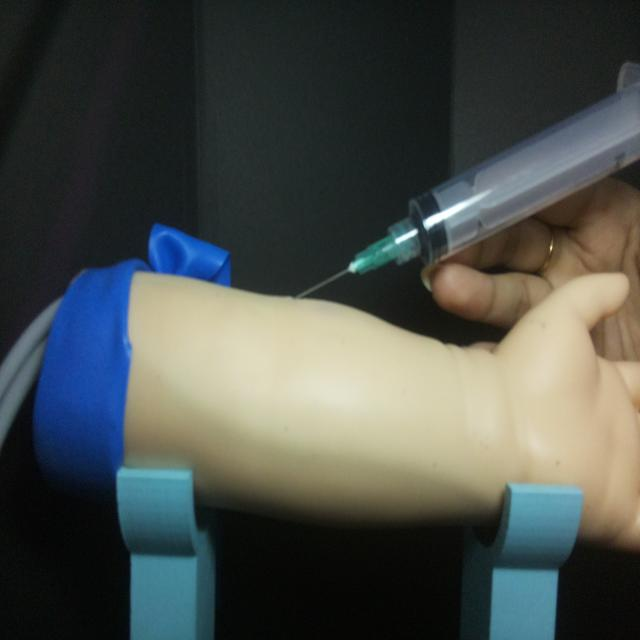16deg: (293, 61, 640, 301)
